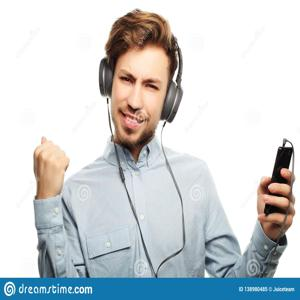Headphones: (95, 22, 183, 124)
